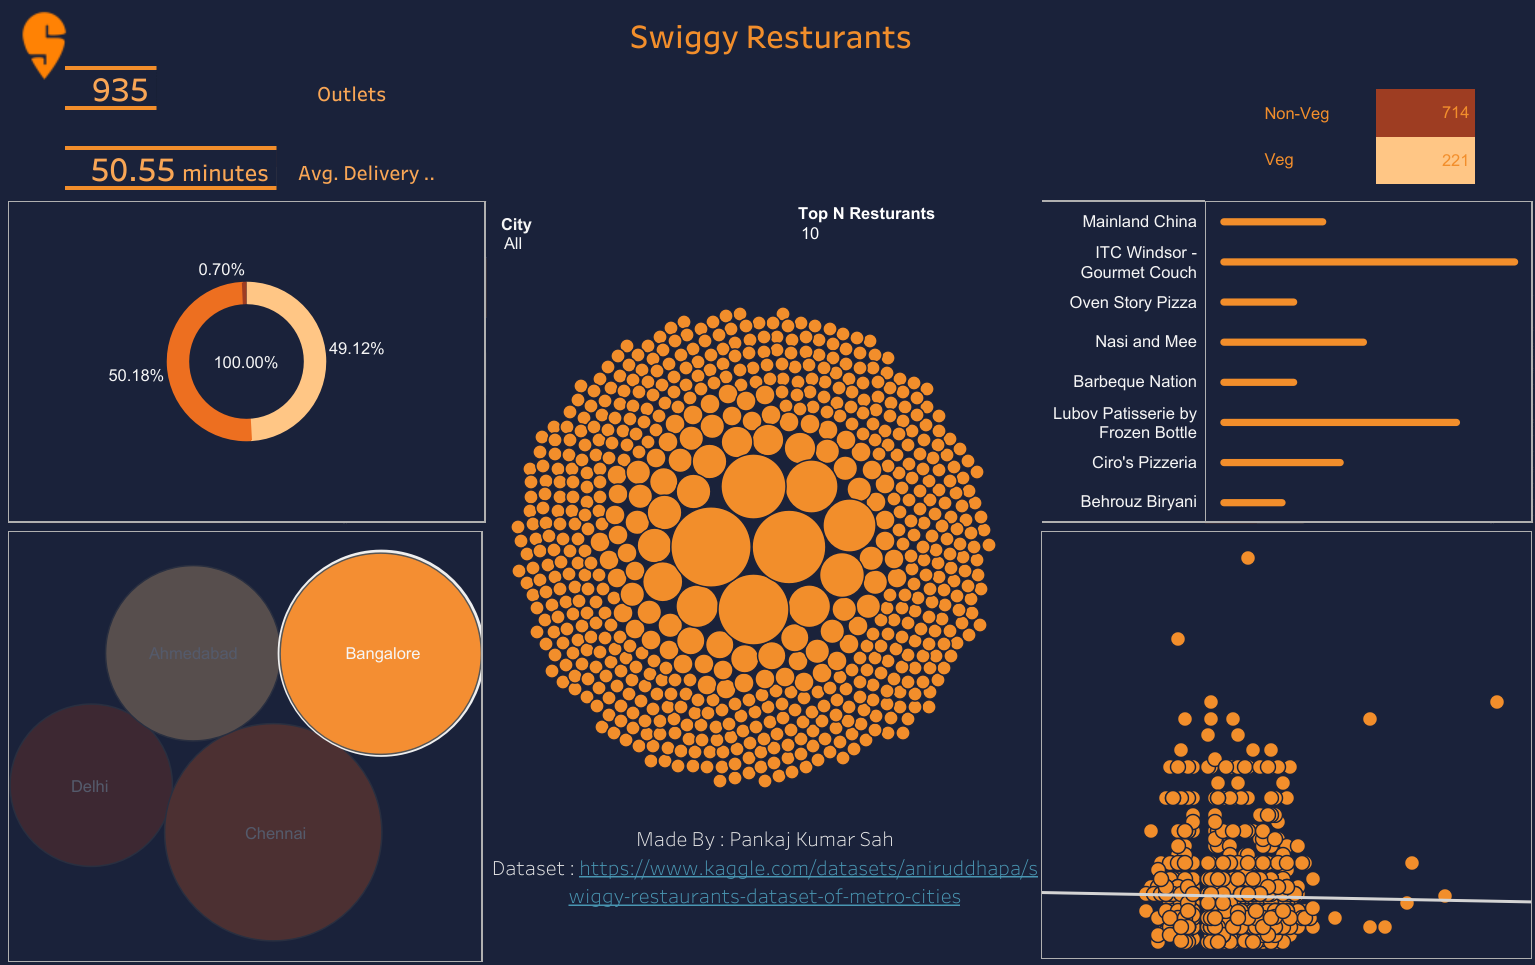

The page's visual inventory and layout, read from the dashboard file:
{"tool":"tableau","page":{"name":"Dashboard","canvas":[1000,1000],"units":"permille","ordinal":0},"visuals":[{"type":"text","box":[4.7,9.6,994.4,54.5]},{"type":"worksheet","title":"No. of Resturants","mark":"Automatic","box":[37.1,60.6,127.9,69.9]},{"type":"text","box":[165,60.6,127.9,69.9]},{"type":"worksheet","title":"Sheet 10","mark":"Square","rows":["veg"],"box":[817.6,91.4,142.2,97.8]},{"type":"worksheet","title":"Avg. Delivery Time","mark":"Automatic","box":[37.1,142.9,147.5,69.9]},{"type":"text","box":[184.6,142.9,108.4,69.9]},{"type":"worksheet","title":"Delivery Status %","mark":"Pie","rows":["Calculation_1476899269557432324","Calculation_1476899269557432324"],"box":[4.7,208.3,311.5,333.3]},{"type":"worksheet","title":"Most Expensive Resturant","mark":"Line","rows":["name"],"box":[679.1,208.3,319,333.3]},{"type":"parameter","param":"[Parameters].[Parameter 1]","box":[519.2,209.9,149.7,101]},{"type":"filter","title":"Sheet 8","param":"[federated.088taav1wc4fo41eyzbg20iztdv3].[none:city:nk]","box":[326.5,221.2,149.7,64.1]},{"type":"worksheet","title":"Sheet 6","mark":"Circle","box":[283.4,315.7,414.4,500]},{"type":"worksheet","title":"Sheet 3","mark":"Circle","box":[4.7,549.7,309.6,447.1]},{"type":"worksheet","title":"Sheet 8","mark":"Circle","rows":["costForTwo"],"cols":["deliveryTime"],"box":[678.2,549.7,319.9,443.9]},{"type":"text","box":[315.2,830.1,365.8,133]}]}

Visuals, with their boxes on the dashboard's canvas, which has no fixed pixel size, in thousandths of its width and height (x1, y1, x2, y2). These are canvas units, not pixel positions in the 1535x965 screenshot, which may show the page scaled, cropped or inside an application window:
text: [x1=5, y1=10, x2=999, y2=64]
"No. of Resturants" worksheet: [x1=37, y1=61, x2=165, y2=130]
text: [x1=165, y1=61, x2=293, y2=130]
"Sheet 10" worksheet (Square marks): [x1=818, y1=91, x2=960, y2=189]
"Avg. Delivery Time" worksheet: [x1=37, y1=143, x2=185, y2=213]
text: [x1=185, y1=143, x2=293, y2=213]
"Delivery Status %" worksheet (Pie marks): [x1=5, y1=208, x2=316, y2=542]
"Most Expensive Resturant" worksheet (Line marks): [x1=679, y1=208, x2=998, y2=542]
parameter: [x1=519, y1=210, x2=669, y2=311]
"Sheet 8" filter: [x1=326, y1=221, x2=476, y2=285]
"Sheet 6" worksheet (Circle marks): [x1=283, y1=316, x2=698, y2=816]
"Sheet 3" worksheet (Circle marks): [x1=5, y1=550, x2=314, y2=997]
"Sheet 8" worksheet (Circle marks): [x1=678, y1=550, x2=998, y2=994]
text: [x1=315, y1=830, x2=681, y2=963]
